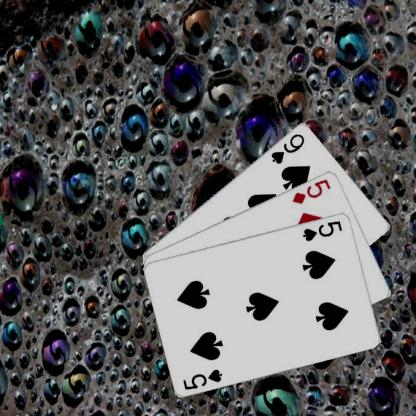5D: (290, 176, 332, 205)
5S: (180, 366, 224, 391), (300, 218, 344, 242)
9S: (268, 131, 306, 165)
